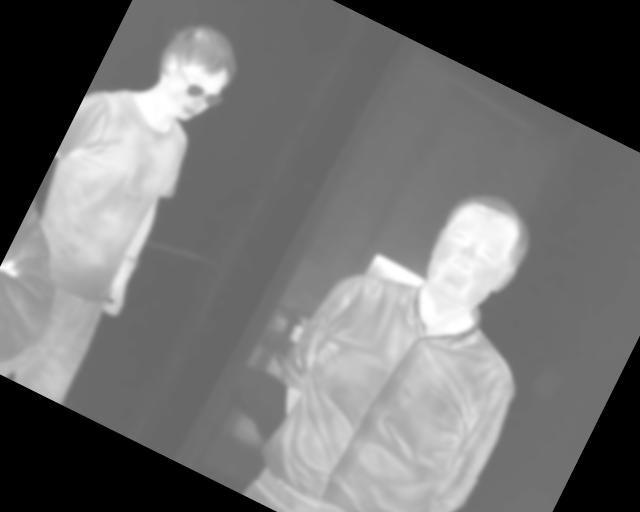face: (408, 177, 544, 331), (138, 9, 250, 133)
